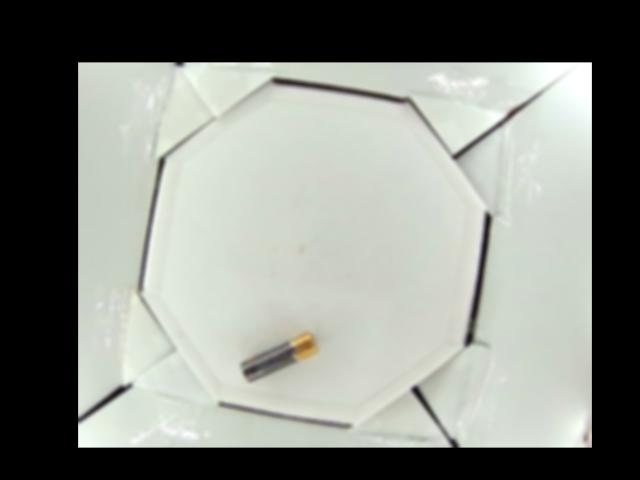Battery: (238, 331, 318, 380)
